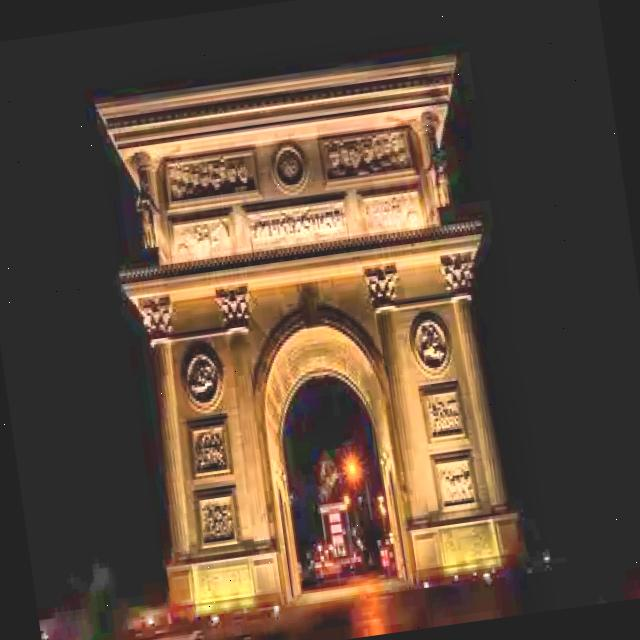triumphal arch: (87, 29, 536, 624)
